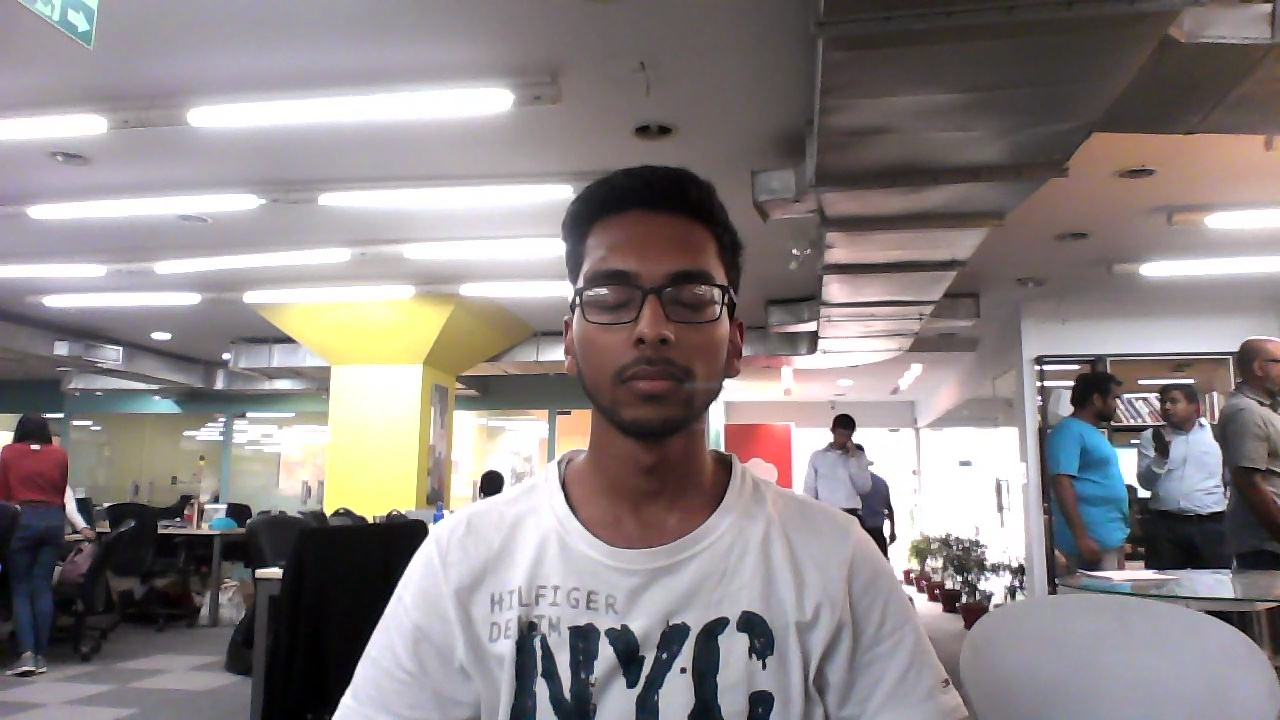closed: (556, 158, 755, 431)
